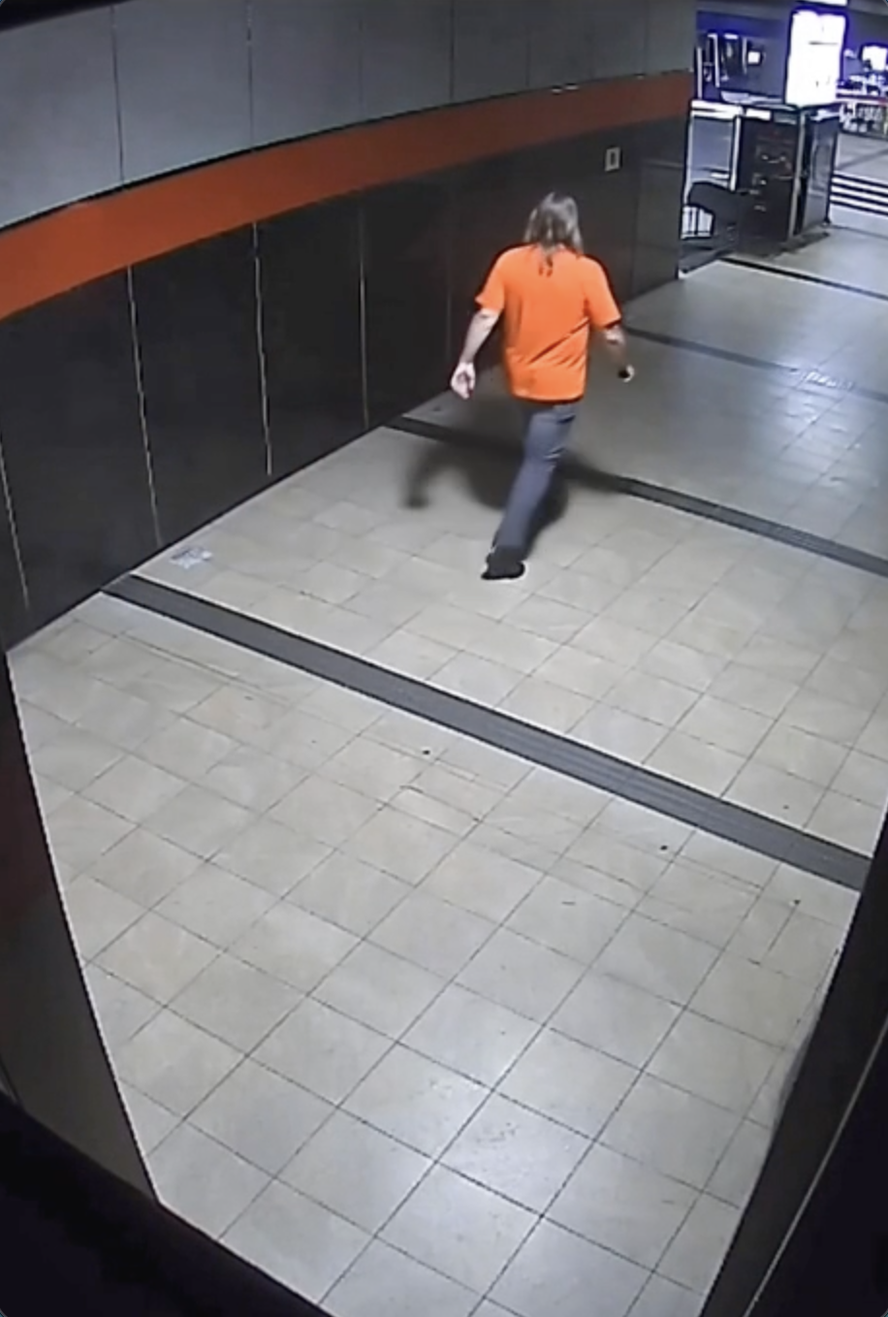Heavy Gun: (446, 183, 644, 588)
